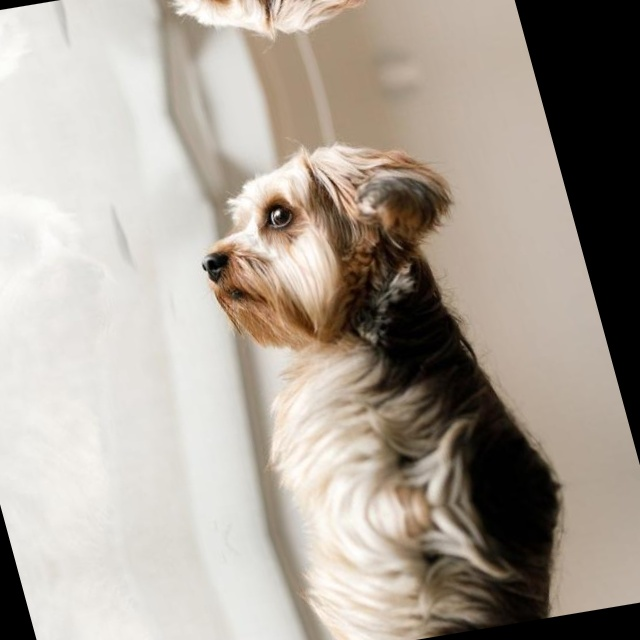dog: (131, 115, 477, 366), (86, 0, 399, 77)
